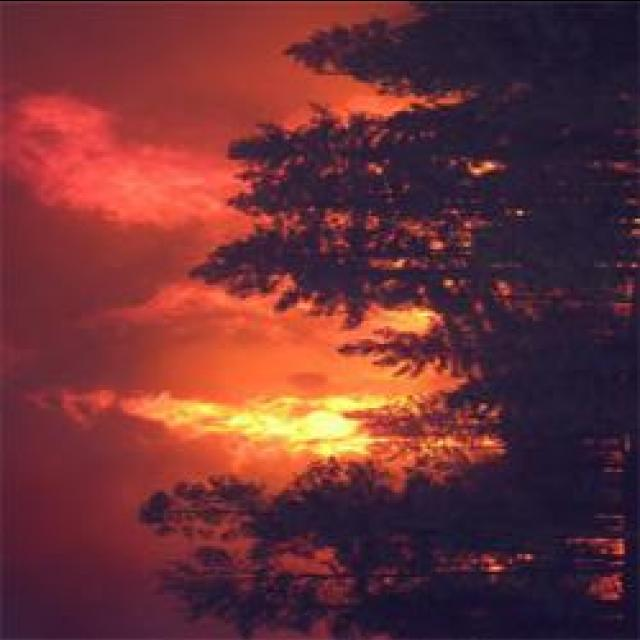fire: (205, 392, 394, 467)
smoke: (39, 78, 229, 262), (53, 488, 183, 621), (270, 60, 338, 148)
